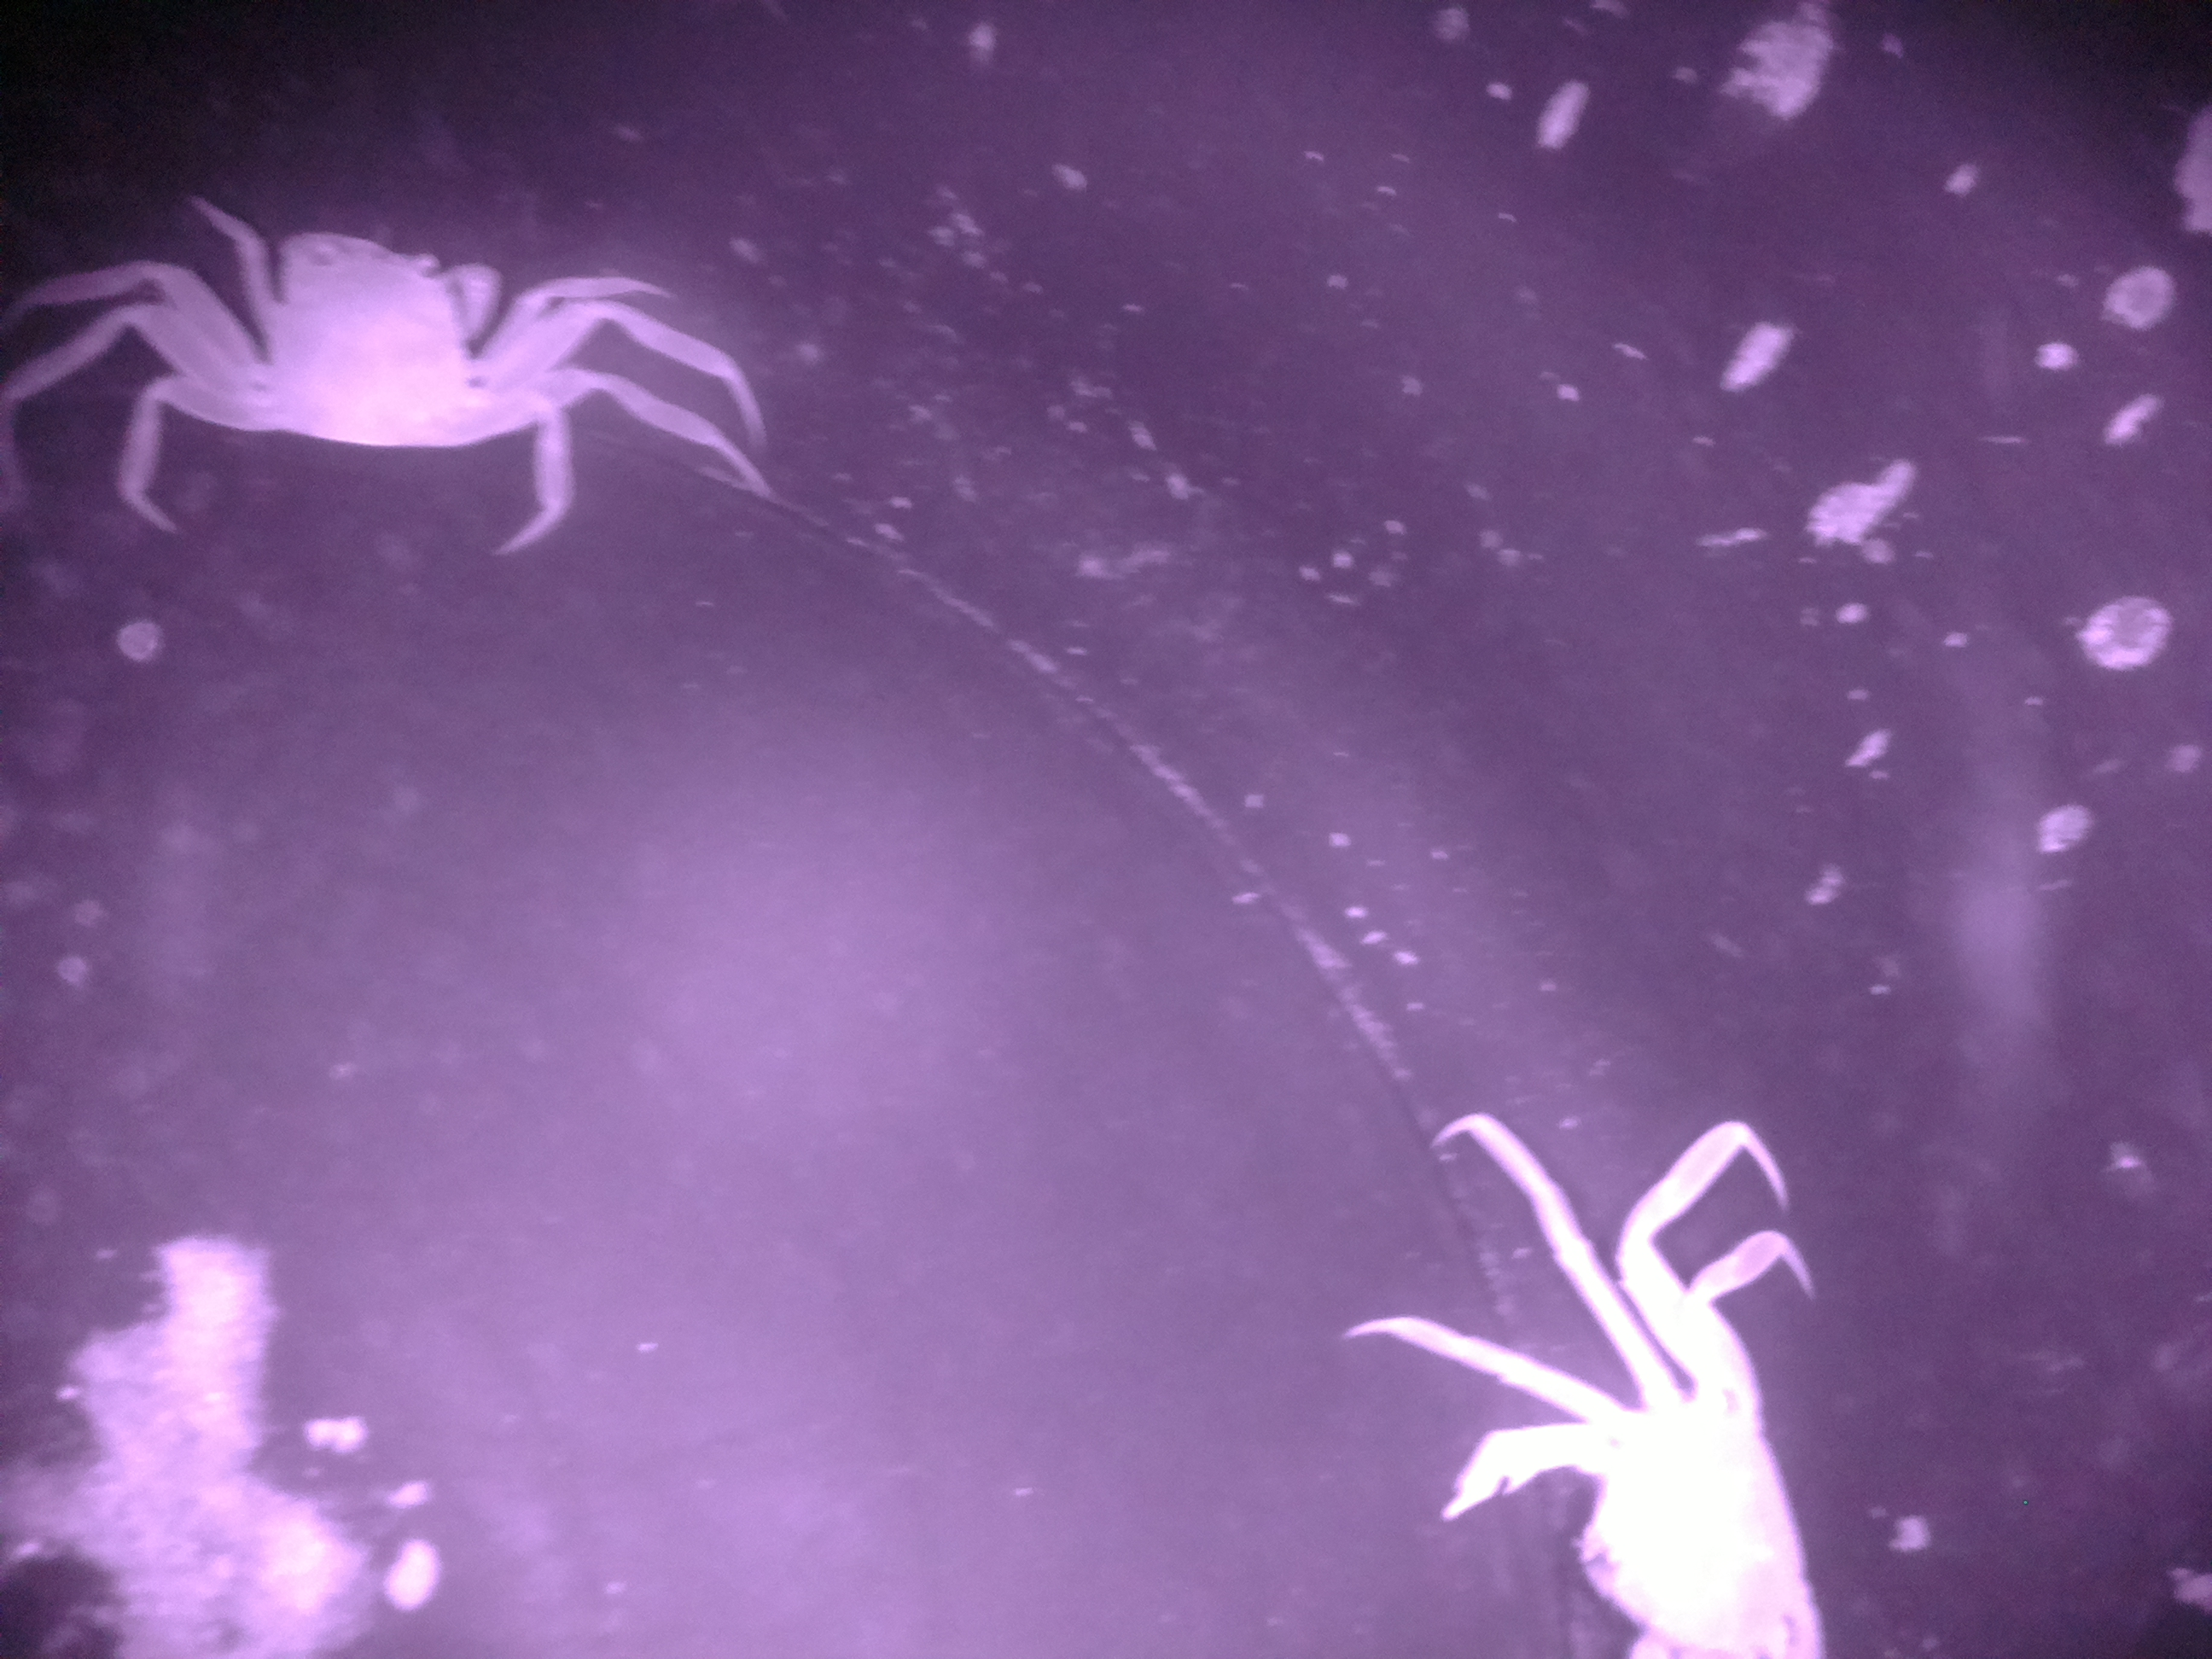Crab: (136, 139, 577, 580)
